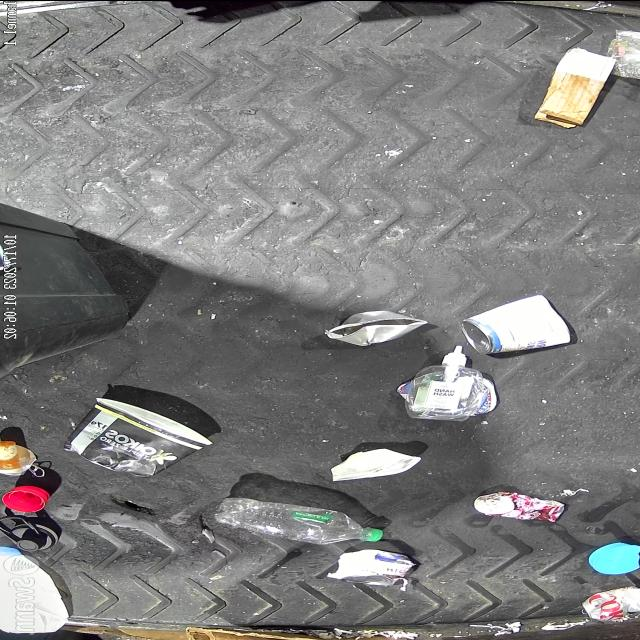can: (458, 292, 572, 354), (324, 309, 428, 345), (474, 490, 566, 522), (335, 548, 413, 584), (579, 586, 640, 624)
milk_jug: (0, 546, 69, 632)
plastic_bottle: (214, 496, 384, 544)
